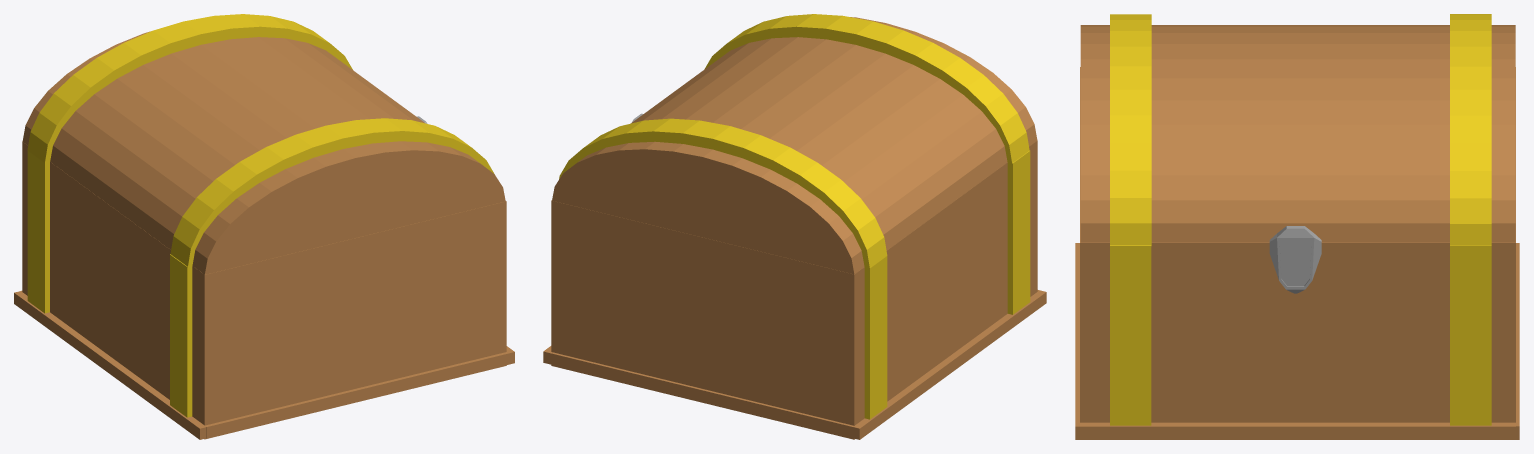
File: AnimCoffre.fbx
The picture shows the model from 3 angles, left to right: view 1: azimuth 30°, elevation 25°; view 2: azimuth 150°, elevation 25°; view 3: azimuth 270°, elevation 25°; orthographic projection. The views are drawn at different scales.
Parts seen in each view (by area): view 1: Cube.004, Cube.001; view 2: Cube.004, Cube.001; view 3: Cube.001, Cube.004.
Boxes of the visible parts, x1,y1,x2,y2 form: Cube.004: (14, 141, 514, 439); Cube.001: (22, 14, 505, 274); Cube.004: (543, 140, 1046, 439); Cube.001: (552, 14, 1037, 274); Cube.001: (1080, 14, 1515, 293); Cube.004: (1075, 67, 1519, 439).
Size of the model in its own units: 211 by 162 by 214.
